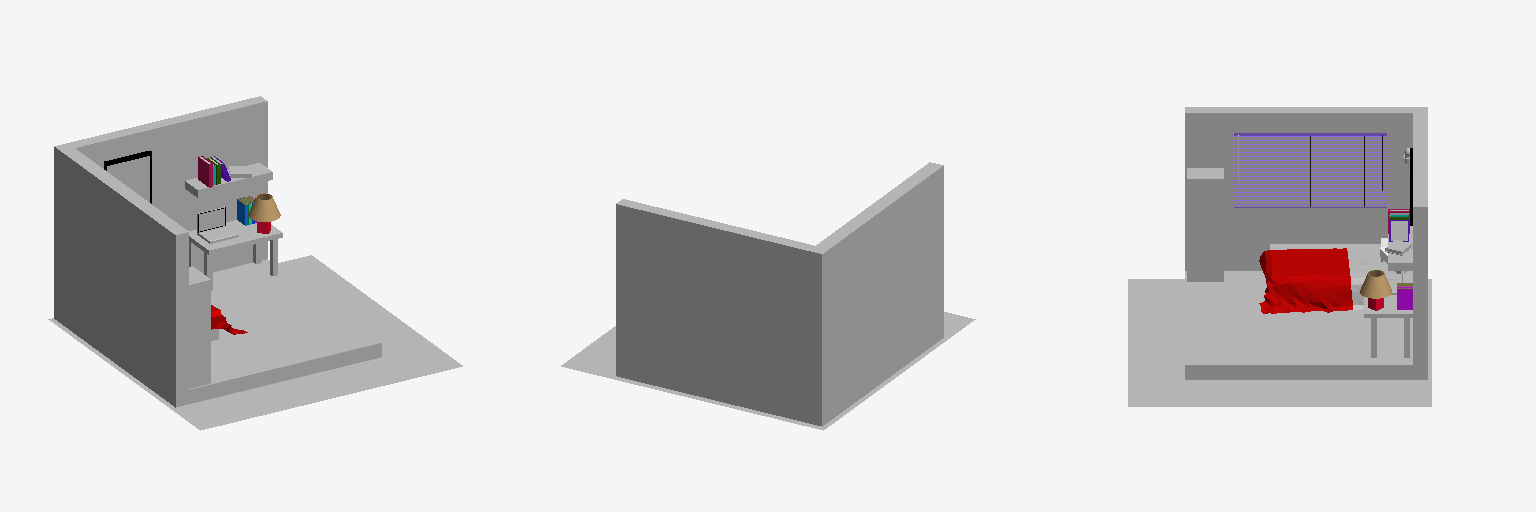
The model's file is Bannn2.obj.
3 renders of one model, left to right at view 1: azimuth 30°, elevation 25°; view 2: azimuth 150°, elevation 25°; view 3: azimuth 270°, elevation 25°, orthographic.
Visible parts, largest first — view 1: Room_Wall_0, Room_Floor_0, Plane, Cube.005_Table_0, Table_Table_0, Cube.007_Images_0, Cube.001_Table_0, Lampshade.001_Lampshade.001_material_0; view 2: Room_Wall_0, Plane; view 3: Room_Wall_0, Room_Floor_0, Plane, Room_Windows_0, Plane_ClothB_0, Cube.005_Wardrop_0, Venetian_slats_Plastic_venetian_material_0, Table_Table_0, Cube_Bed_0, Plane_Cloth_0, Lampshade.001_Lampshade.001_material_0.
Boxes of the visible parts, box(x1,y1,x2,y2) form: Room_Wall_0: box(54, 96, 267, 407); Room_Floor_0: box(176, 259, 381, 406); Plane: box(48, 255, 462, 430); Cube.005_Table_0: box(189, 266, 210, 388); Table_Table_0: box(189, 220, 282, 290); Cube.007_Images_0: box(107, 156, 149, 202); Cube.001_Table_0: box(185, 163, 272, 197); Lampshade.001_Lampshade.001_material_0: box(248, 193, 280, 221); Room_Wall_0: box(616, 162, 943, 426); Plane: box(561, 312, 975, 430); Room_Wall_0: box(1185, 107, 1427, 364); Room_Floor_0: box(1185, 271, 1427, 379); Plane: box(1128, 279, 1431, 406); Room_Windows_0: box(1228, 131, 1371, 212); Plane_ClothB_0: box(1259, 248, 1352, 313); Cube.005_Wardrop_0: box(1187, 179, 1223, 281); Venetian_slats_Plastic_venetian_material_0: box(1234, 136, 1386, 204); Table_Table_0: box(1364, 278, 1412, 357); Cube_Bed_0: box(1270, 244, 1410, 277); Plane_Cloth_0: box(1347, 248, 1368, 309); Lampshade.001_Lampshade.001_material_0: box(1360, 270, 1391, 298).
Bounding box in the file's own units: 10 × 6.3 × 10.